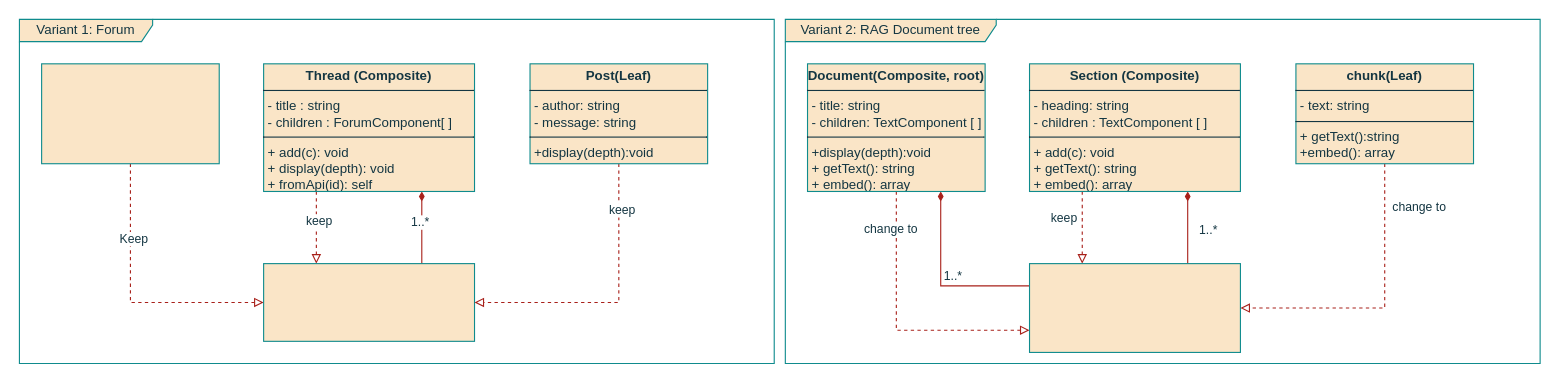
Some shapes in this 1560 by 383 pixel diagram are drawn without their labels. The centre of each missing label's shape, as x and y in pixels:
<<Interface>> ForumComponent + display(depth): void: the point at 369,302
<<Interface>> TextComponent + getText(): string + embed(): array: the point at 1134,307
Bundle(Leaf, new +1 class) - label: string - tags: array +display(depth):void: the point at 130,113
